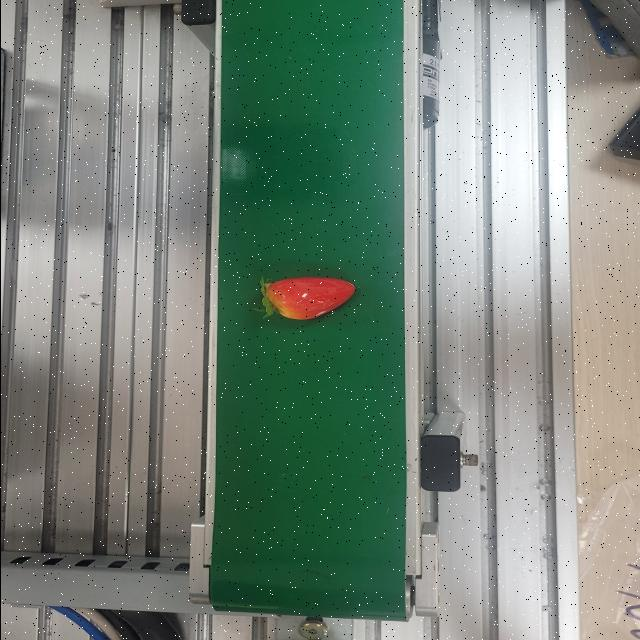Small Unripe Strawberry: (253, 274, 359, 322)
